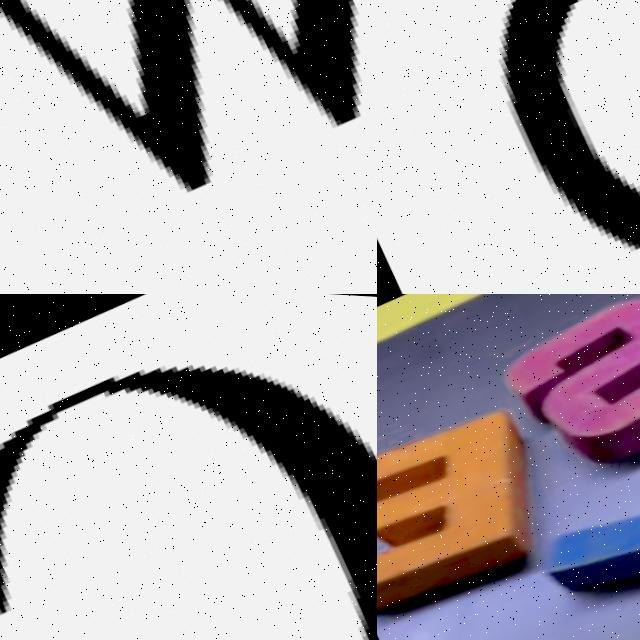5: (377, 0, 640, 294)
C: (0, 362, 377, 640)
E: (377, 380, 595, 640)
S: (487, 294, 640, 490)
W: (0, 0, 377, 285)
